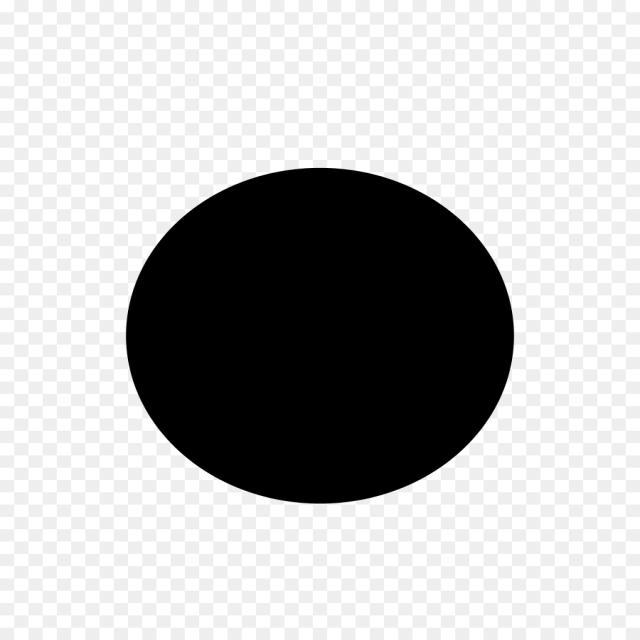Circle: (118, 164, 522, 508)
